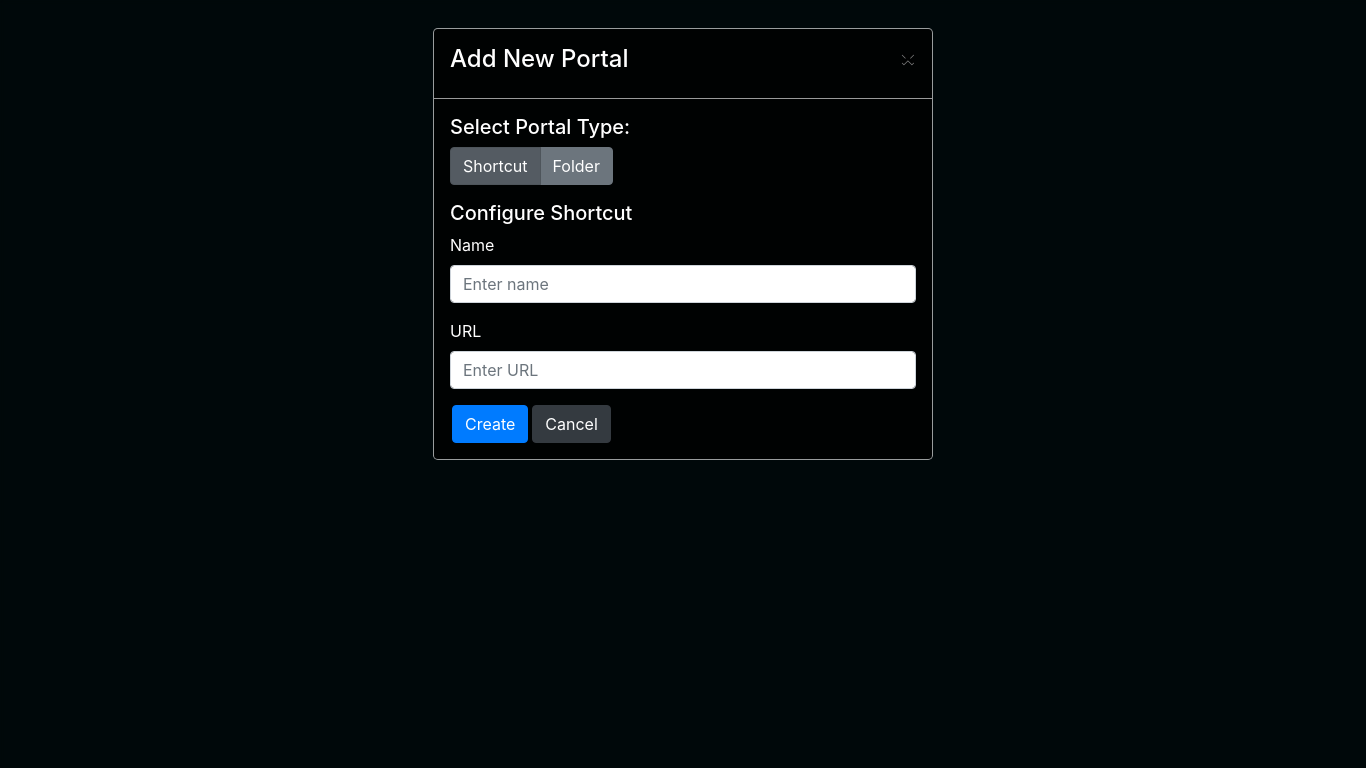
Test: should render unsupported warning on folder button click
The width and height of the screenshot is (1366, 768).
Click the text "Folder".
click(576, 166)  # box [540, 147, 613, 185]
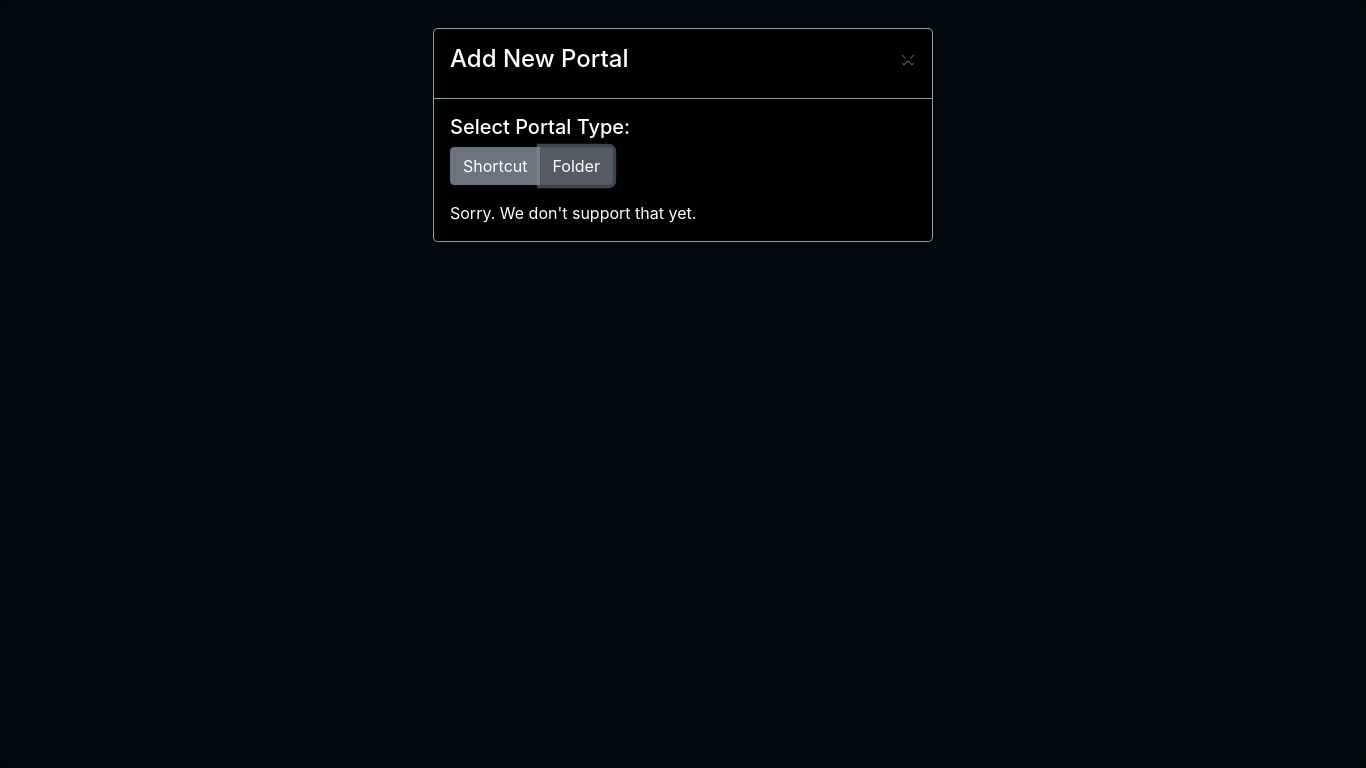
expect the text "Sorry. We don't support that yet." is shown: met, box [450, 203, 696, 223]
